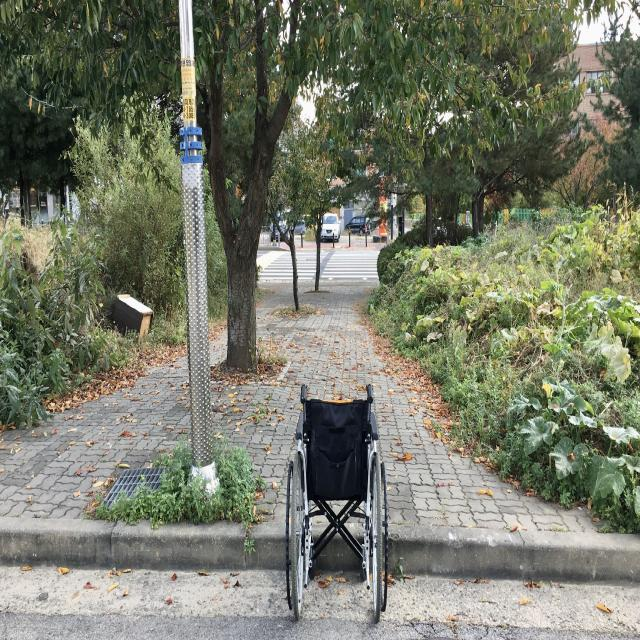횡단보도: (256, 251, 381, 281)
